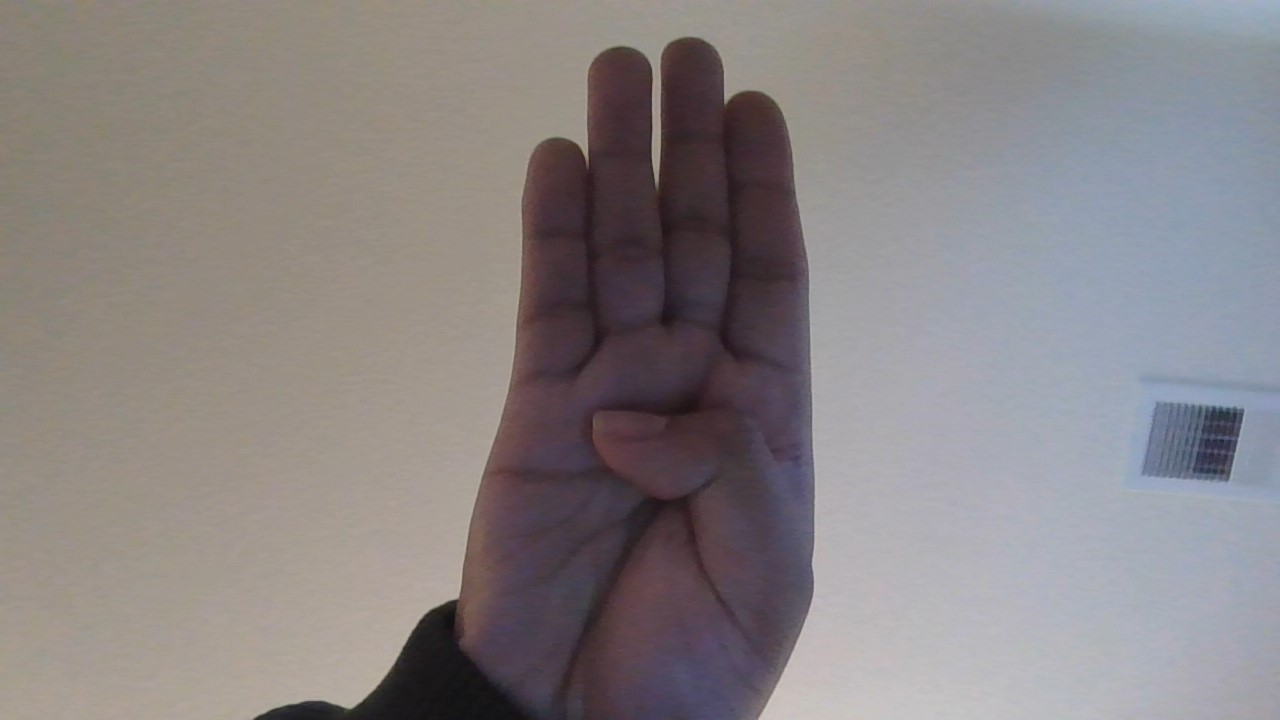b: (440, 35, 862, 720)
